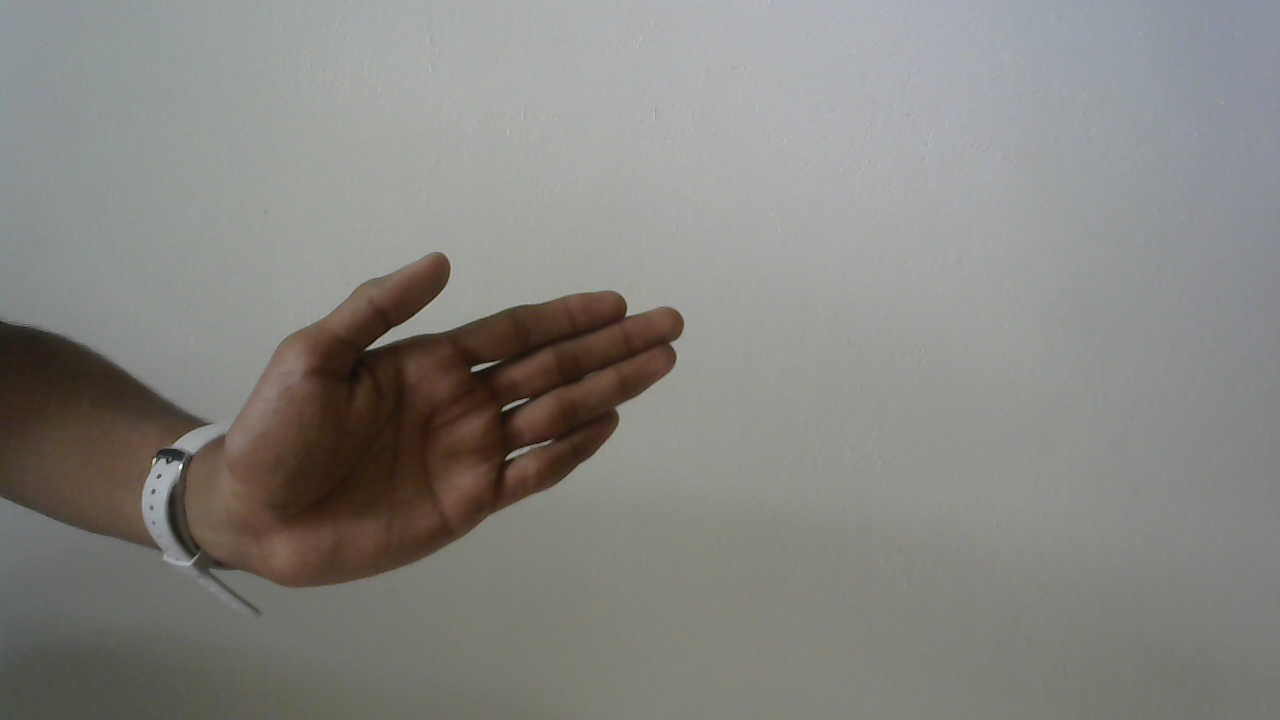hello: (215, 242, 691, 597)
